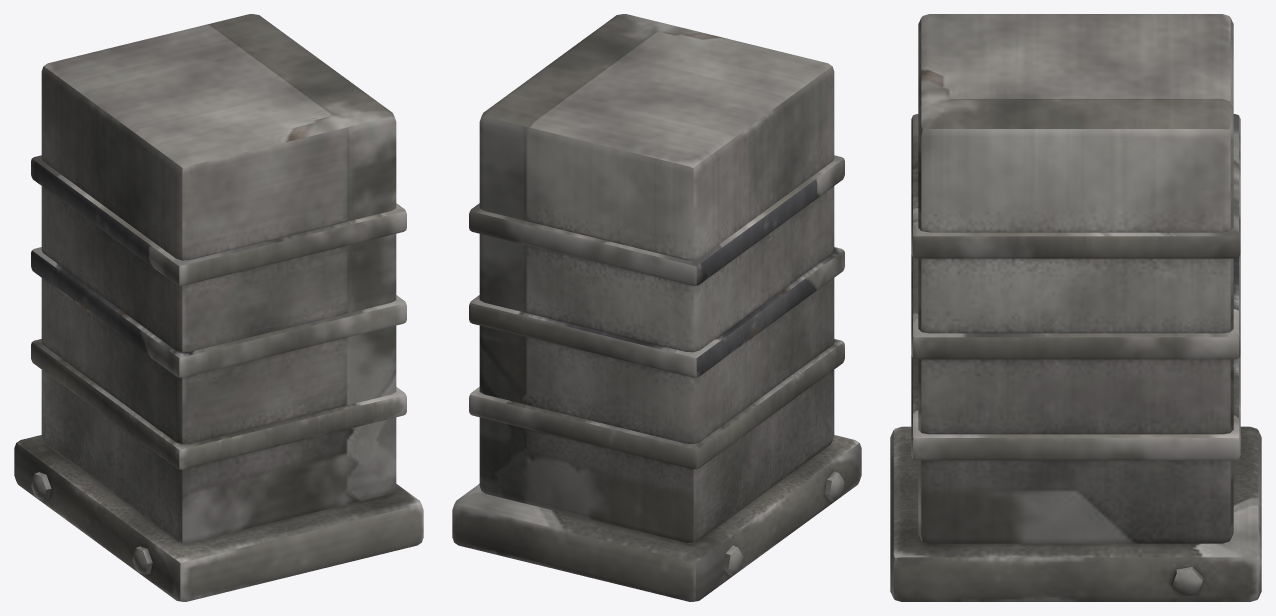
Rendered from extended_mag.glb.
The picture shows the model from 3 angles, left to right: view 1: azimuth 30°, elevation 25°; view 2: azimuth 150°, elevation 25°; view 3: azimuth 270°, elevation 25°; orthographic projection. The views are drawn at different scales.
Visible parts, largest first — view 1: extension, plate, rib_b, rib_a, rib_c; view 2: extension, plate, rib_b, rib_a, rib_c; view 3: extension, plate, rib_a, rib_c, rib_b, plate_screw.
Part boxes in pixels (x1,y1,x2,y2): extension: (41, 14, 396, 543); plate: (14, 435, 423, 601); rib_b: (31, 247, 406, 377); rib_a: (31, 155, 406, 285); rib_c: (31, 339, 406, 469); extension: (479, 14, 834, 543); plate: (452, 435, 861, 601); rib_b: (469, 247, 844, 377); rib_a: (469, 155, 844, 285); rib_c: (469, 339, 844, 469); extension: (918, 14, 1233, 543); plate: (890, 426, 1261, 601); rib_a: (911, 114, 1240, 258); rib_c: (911, 355, 1240, 460); rib_b: (911, 254, 1240, 359); plate_screw: (1171, 567, 1203, 597).
Bounding box in the file's own units: 0.0364 × 0.056 × 0.04.
Materials: 1 (1 with a texture image).
